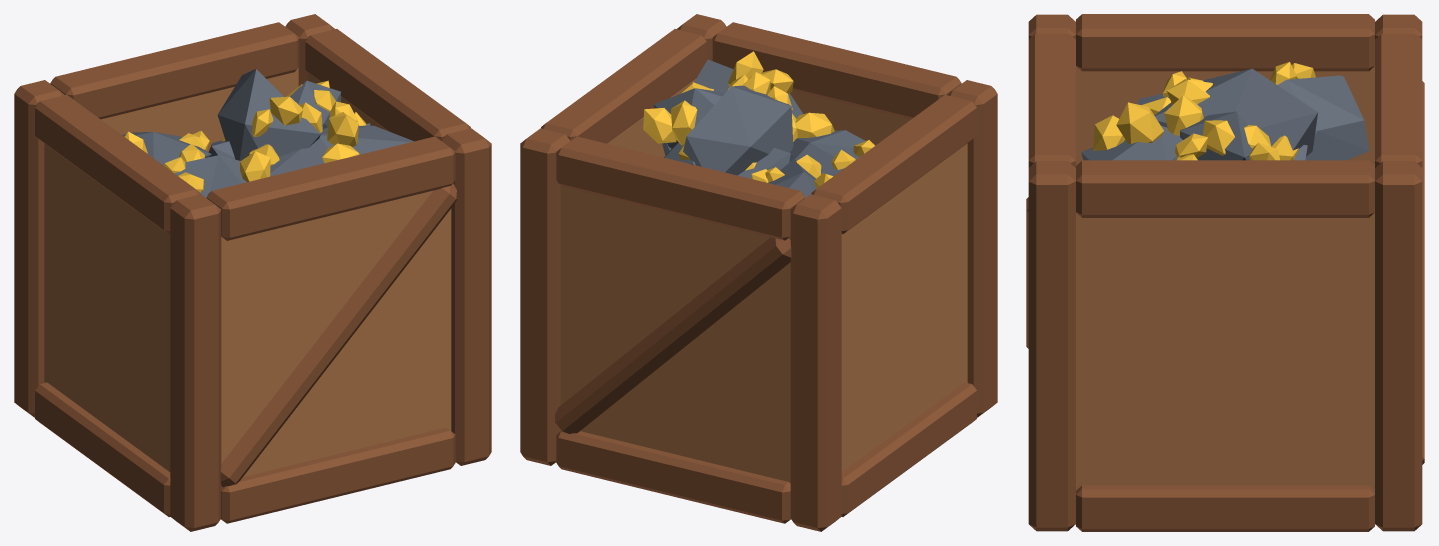
The model's file is Res_Crate_Ore.fbx.
3 renders of one model, left to right at view 1: azimuth 30°, elevation 25°; view 2: azimuth 150°, elevation 25°; view 3: azimuth 270°, elevation 25°, orthographic. The views are drawn at different scales.
Parts seen in each view (by area): view 1: Res_Crate_Ore; view 2: Res_Crate_Ore; view 3: Res_Crate_Ore.
Part boxes in pixels (<box>): Res_Crate_Ore: <box>14,14,491,531</box>; Res_Crate_Ore: <box>520,14,997,531</box>; Res_Crate_Ore: <box>1026,14,1424,531</box>.
Bounding box in the file's own units: 0.5 × 0.5481 × 0.506.
